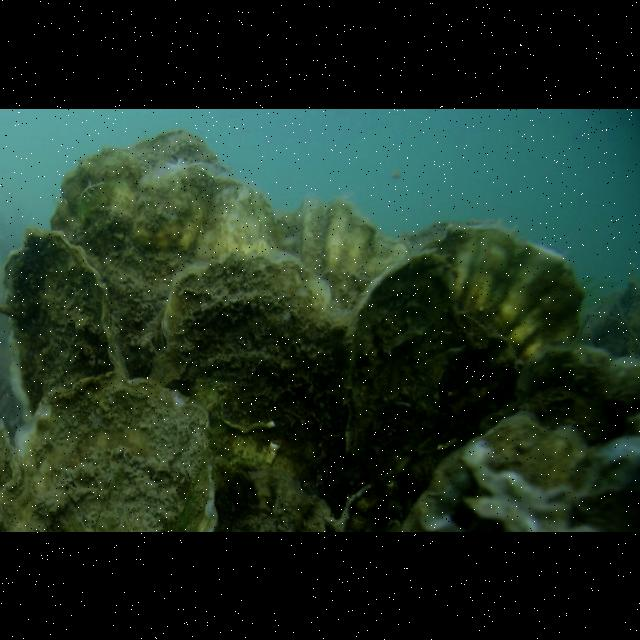Oyster-Closed: (52, 129, 277, 380), (324, 250, 524, 518), (149, 250, 352, 498), (0, 373, 218, 531), (406, 411, 640, 531), (2, 226, 130, 421), (423, 225, 583, 360), (482, 343, 640, 446), (278, 195, 414, 309), (213, 469, 331, 531)
